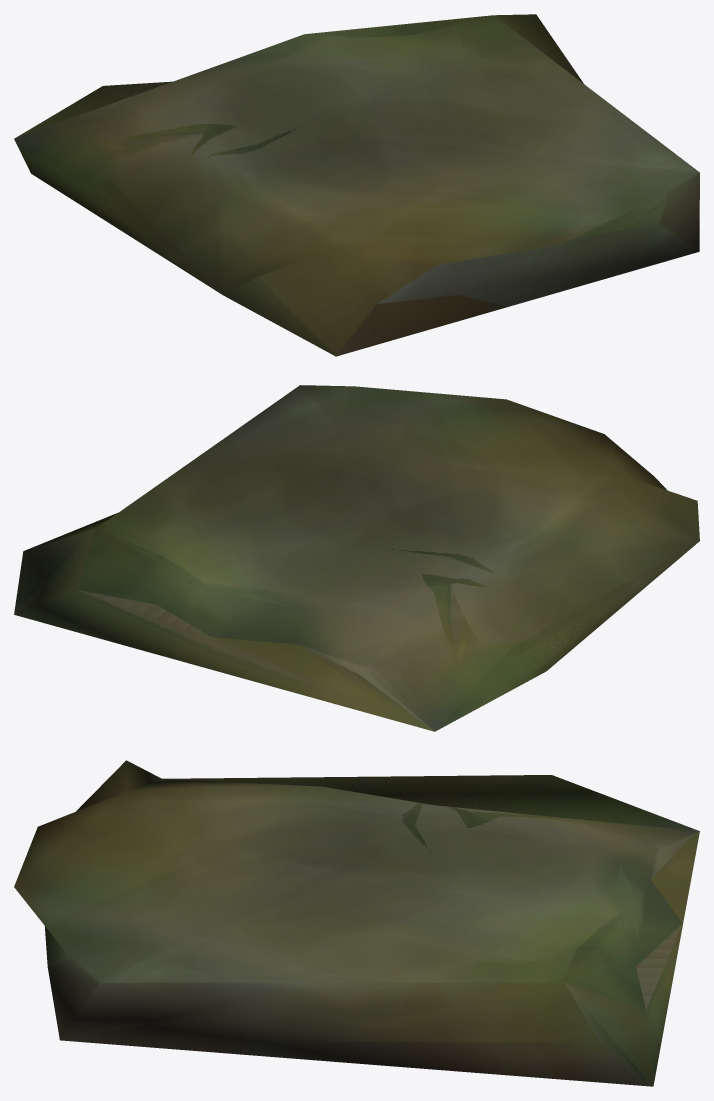
The model's file is rock.glb.
3 views of the same model, one above another, from view 1: azimuth 30°, elevation 25°; view 2: azimuth 150°, elevation 25°; view 3: azimuth 270°, elevation 25° (orthographic). The views are drawn at different scales.
Visible parts, largest first — view 1: flatrock; view 2: flatrock; view 3: flatrock.
Part boxes in pixels (left/top/right/bottom): flatrock: left=14, top=14, right=699, bottom=356; flatrock: left=14, top=385, right=699, bottom=731; flatrock: left=14, top=760, right=699, bottom=1086.
Size of the model in its own units: 1.39 by 0.2116 by 1.42.
1 material, 1 textured.
